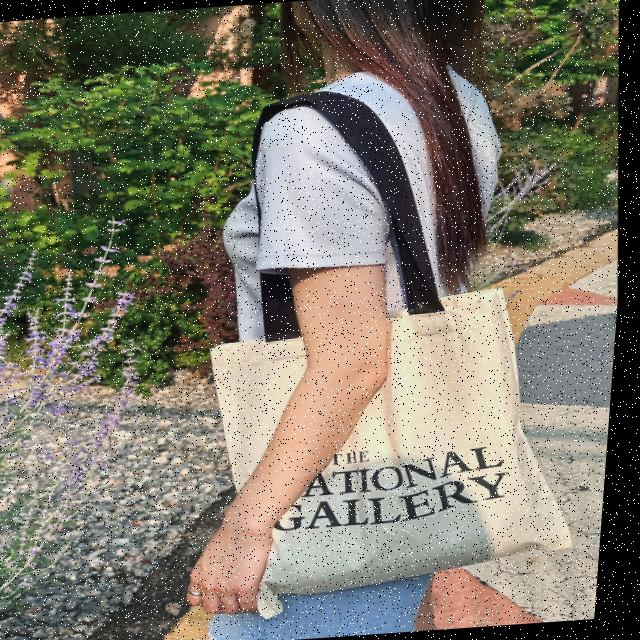ecobag: (153, 69, 620, 612)
